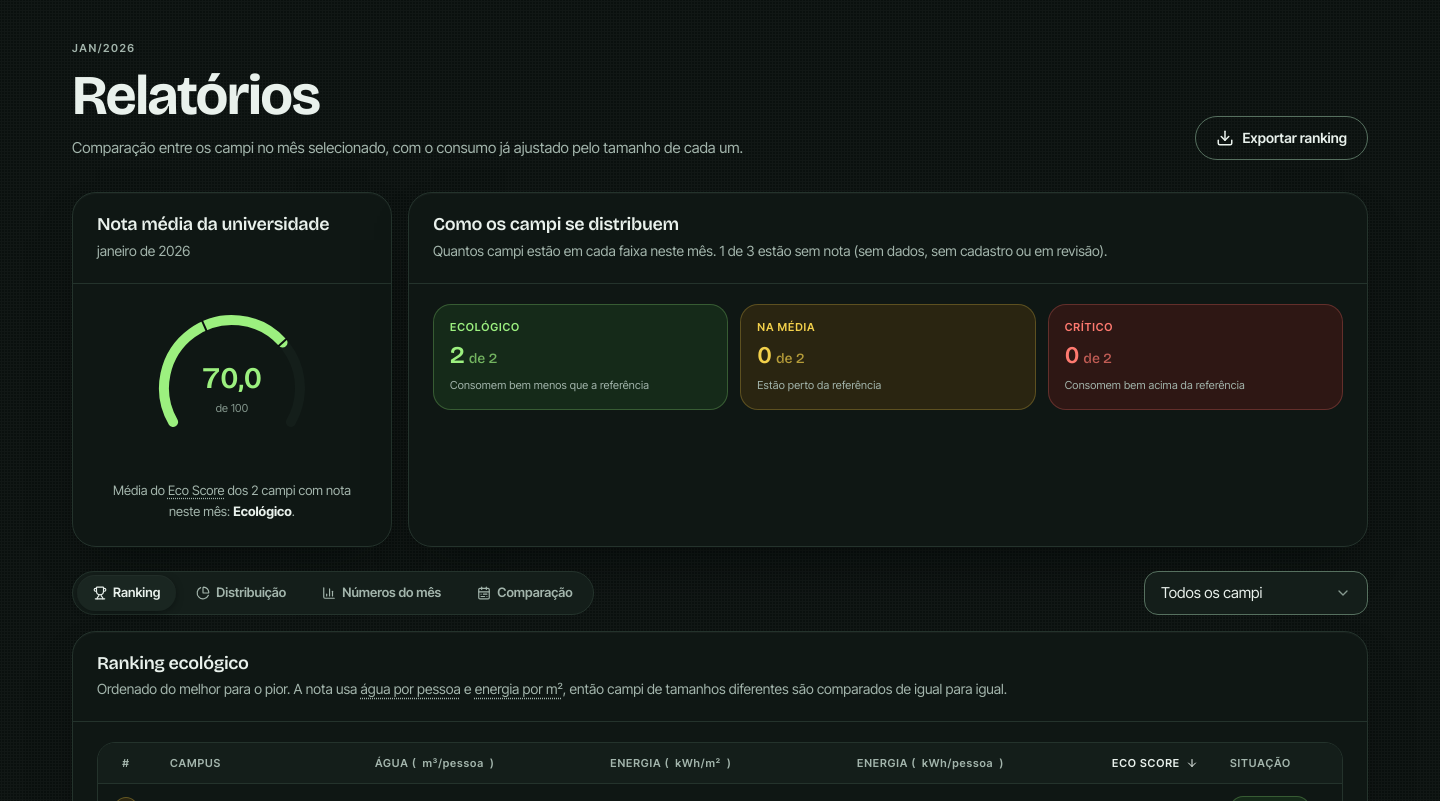
Relatórios › a tabela de detalhe fecha com o kWh por pessoa da universidade (R.1)
Press the mouse on the tab "Números do mês": point(382, 593) [306,575,457,611]
(page scrolled)
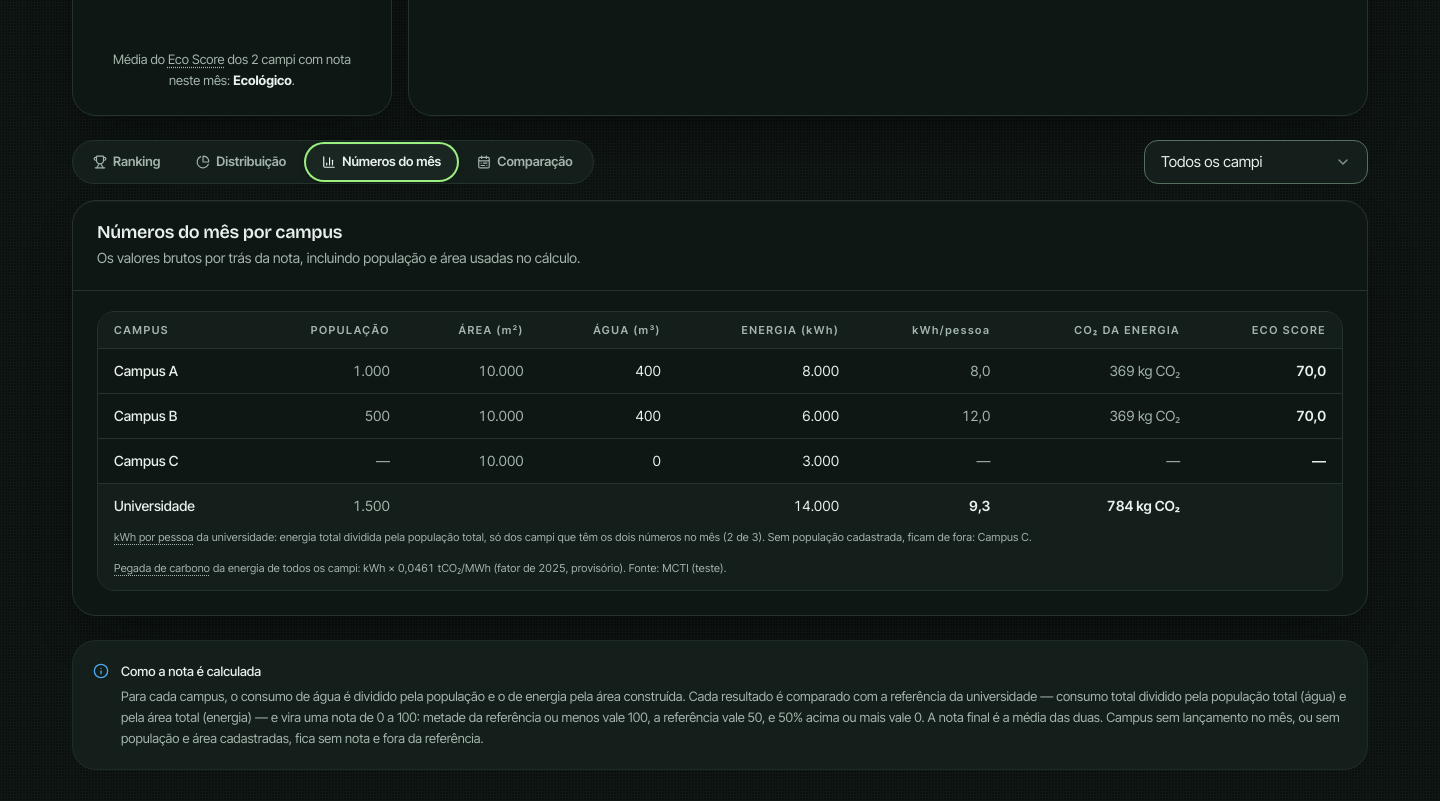
Check: the text "Universidade" shows "9,3", box [969,497,990,514]
Check: the text "Universidade" shows "2 de 3", box [98,484,1342,590]
Check: the text "Universidade" shows "ficam de fora: Campus C", box [765,530,1032,544]
